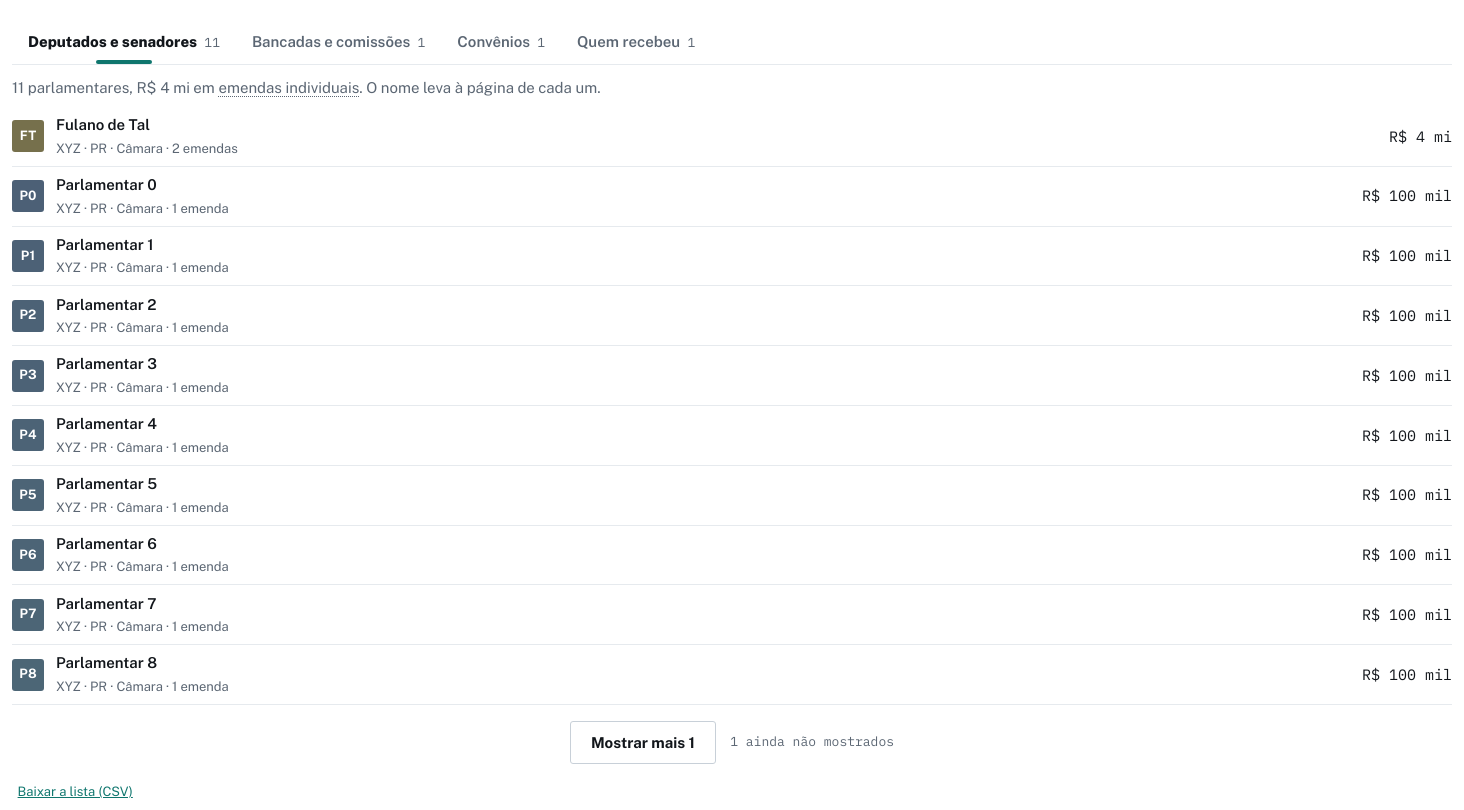
Test: convênios da cidade › diz o combinado, o liberado e o que ainda falta liberar, e leva à entidade
The image size is (1464, 810).
Click the tab "Convênios1".
click(501, 42)  # box [441,20,561,64]
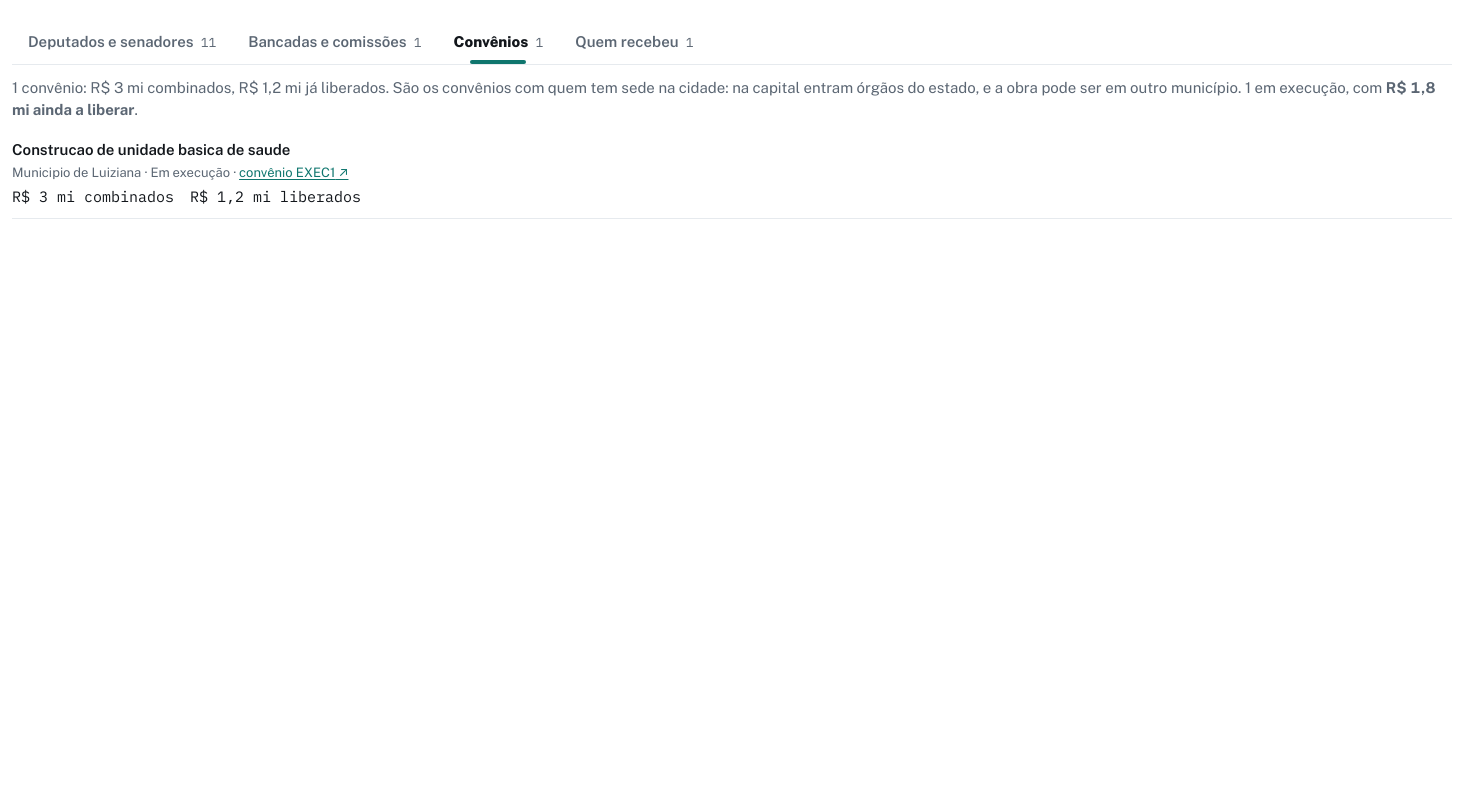
Expected: the text "Construcao de unidade basica de saude" is shown, [12,141,290,158]
